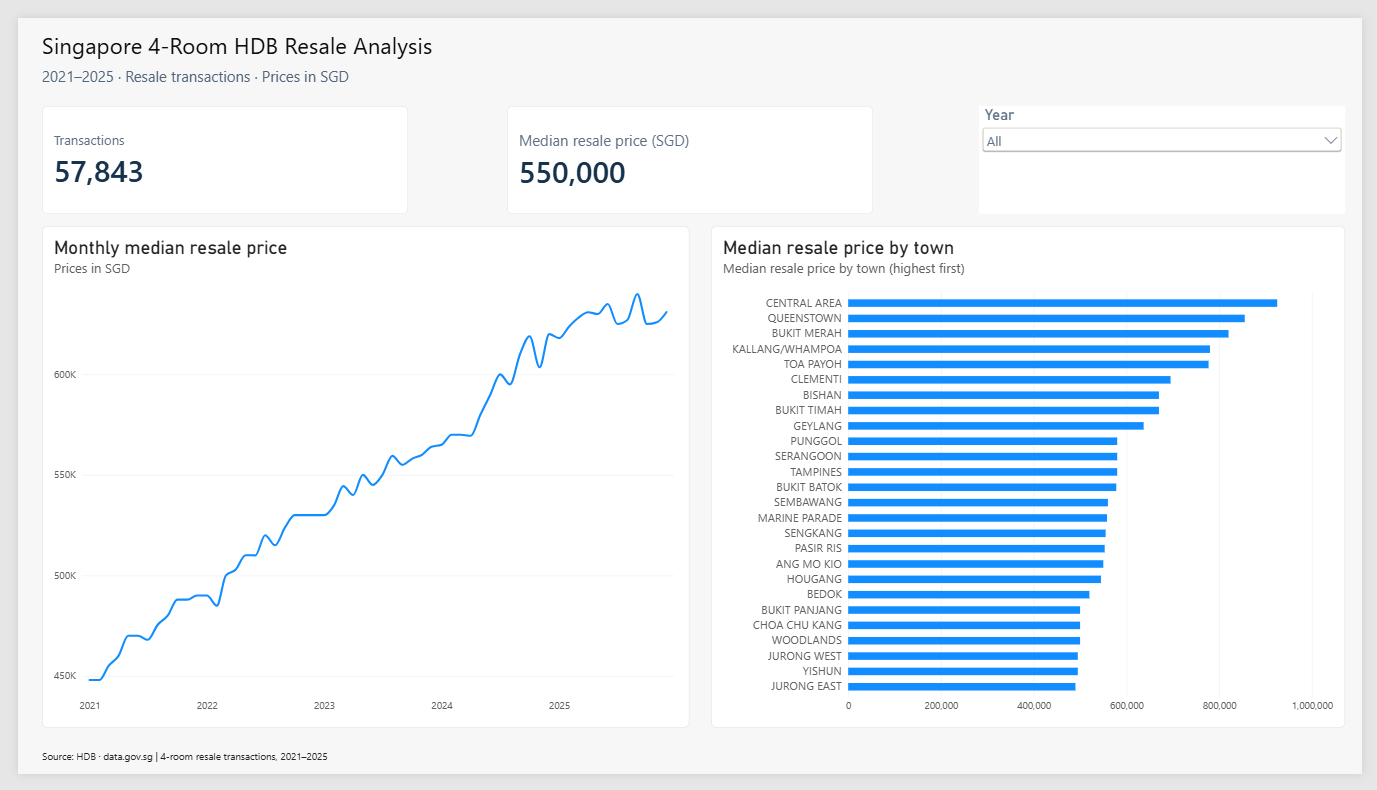

This screenshot's page, from the dashboard's own definition file:
{"tool":"powerbi","page":{"name":"Market Overview","canvas":[1920,1080],"ordinal":0},"visuals":[{"type":"cardVisual","fields":{"Data":["HDB.Transactions"]},"box":[34.8,125.5,523,154.2],"z":0},{"type":"lineChart","title":"Monthly median resale price","fields":{"Category":["HDB.Month Date.Variation.Date Hierarchy.Year","HDB.Month Date.Variation.Date Hierarchy.Quarter","HDB.Month Date.Variation.Date Hierarchy.Month","HDB.Month Date.Variation.Date Hierarchy.Day"],"Y":["HDB.Median Price"]},"box":[34.8,297.8,925.2,716.6],"z":1000},{"type":"clusteredBarChart","title":"Median resale price by town","fields":{"Category":["HDB.town"],"Y":["HDB.Median Price"]},"box":[990.2,297.8,905.6,716.6],"z":2000},{"type":"textbox","box":[34.8,15.1,786.1,62],"z":3000},{"type":"textbox","box":[34.8,68,467.1,57.4],"z":4000},{"type":"slicer","fields":{"Values":["HDB.sale_year"]},"box":[1372.7,125.5,523.1,154.2],"z":5000},{"type":"textbox","box":[34.8,1044.7,541.2,34.8],"z":6000},{"type":"cardVisual","fields":{"Data":["HDB.Median Price"]},"box":[611.8,125,523,154.2],"z":7000}]}

Visuals, with their boxes in screenshot pixels (x1, y1, x2, y2), scaled from the page's 1920x1080 canvas onto the 1377x790 screenshot:
cardVisual - HDB.Transactions: [25,92,400,205]
"Monthly median resale price" lineChart: [25,218,688,742]
"Median resale price by town" clusteredBarChart: [710,218,1360,742]
textbox: [25,11,589,56]
textbox: [25,50,360,92]
slicer - HDB.sale_year: [984,92,1360,205]
textbox: [25,764,413,789]
cardVisual - HDB.Median Price: [439,91,814,204]
